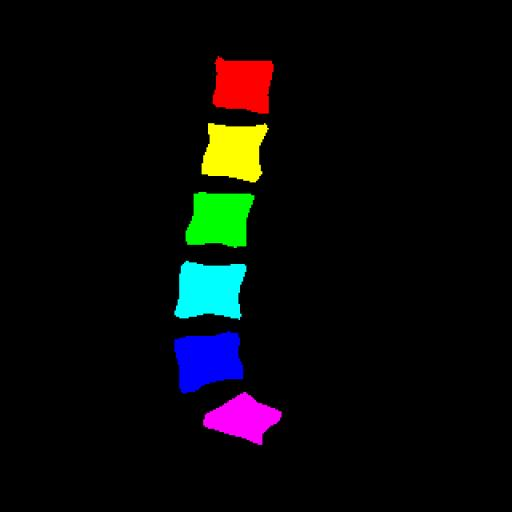L1: (213, 57, 273, 114)
L2: (202, 123, 267, 182)
L3: (186, 192, 254, 248)
L4: (174, 261, 246, 319)
L5: (175, 332, 243, 393)
S1: (203, 392, 282, 445)
